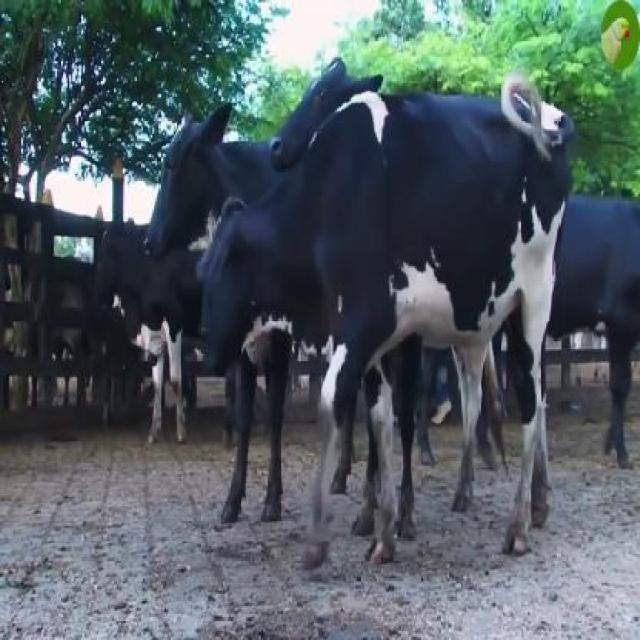Cow: (208, 94, 569, 569)
